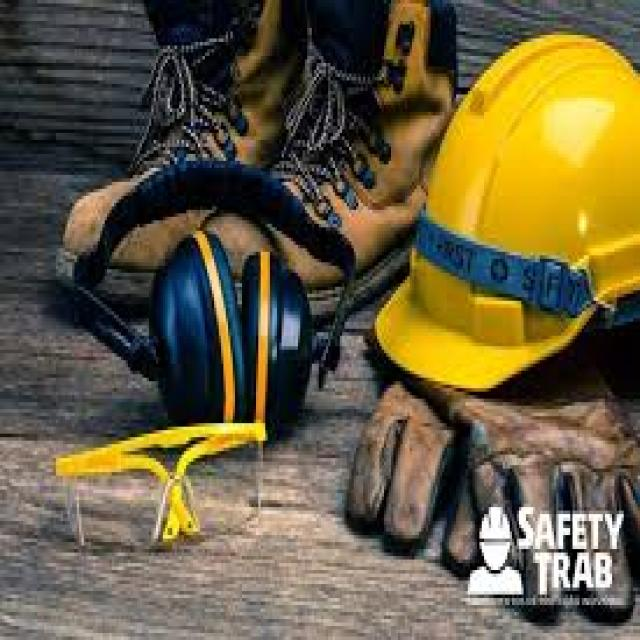oculos-epi: (54, 420, 265, 549)
